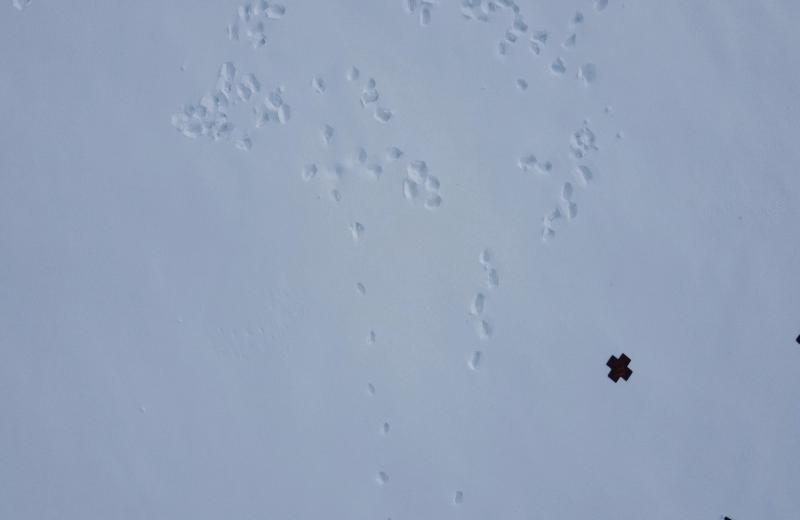Cross: (604, 348, 634, 385)
